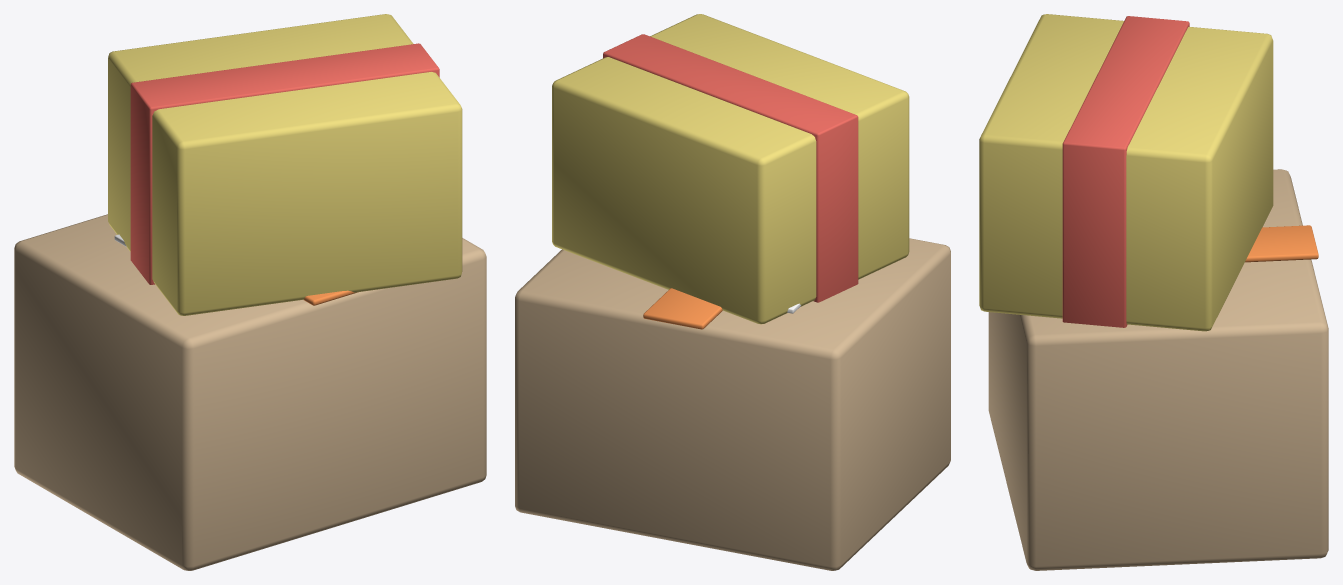
The model's file is Indo_Paket_Shopee_Indomie.fbx.
3 views of the same model, side by side, from view 1: azimuth 30°, elevation 25°; view 2: azimuth 150°, elevation 25°; view 3: azimuth 270°, elevation 25° (orthographic). The views are drawn at different scales.
Visible parts, largest first — view 1: Indo_Paket_Shopee_Indomie; view 2: Indo_Paket_Shopee_Indomie; view 3: Indo_Paket_Shopee_Indomie.
Part boxes in pixels (left/top/right/bottom): Indo_Paket_Shopee_Indomie: left=14, top=14, right=486, bottom=570; Indo_Paket_Shopee_Indomie: left=515, top=14, right=950, bottom=570; Indo_Paket_Shopee_Indomie: left=979, top=14, right=1328, bottom=570.
Bounding box in the file's own units: 37.57 × 42.25 × 32.21.
